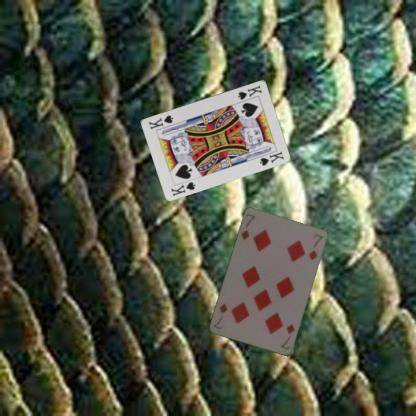7d: (238, 212, 257, 242), (278, 322, 296, 352)
Ks: (235, 82, 264, 101), (168, 179, 197, 197)
